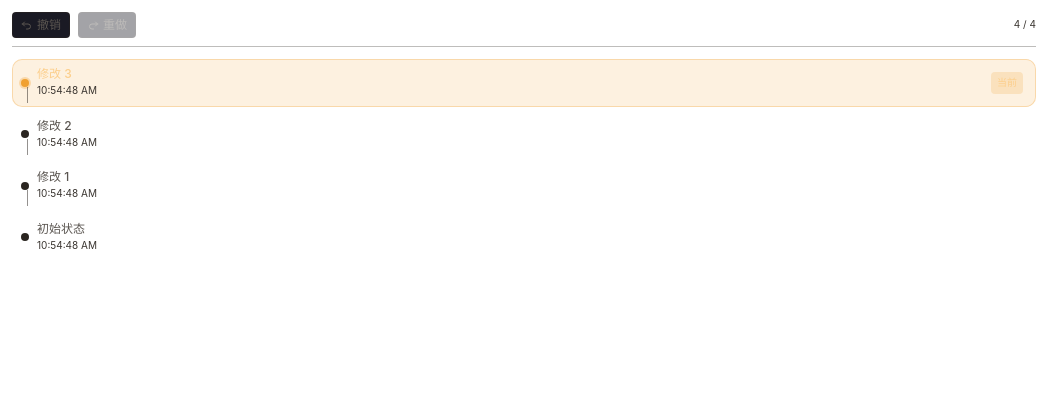
Test: VersionTimeline - 确认恢复 › 恢复后预览关闭
Click the button "修改 3 10:54:48 AM 当前": {"x": 54, "y": 74} [12,59,1036,106]
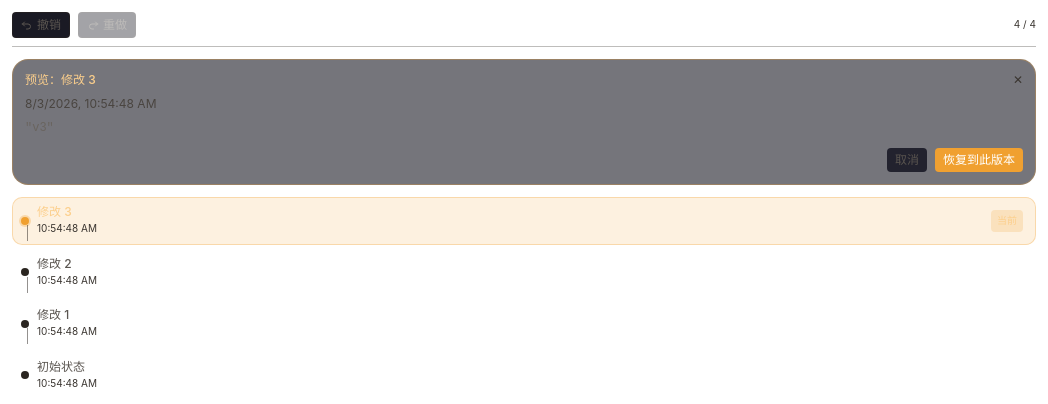
Check: the element with test id "version-preview" is shown, box [12,59,1036,185]
Click the button with test id "confirm-restore": {"x": 979, "y": 160} [935,148,1023,172]
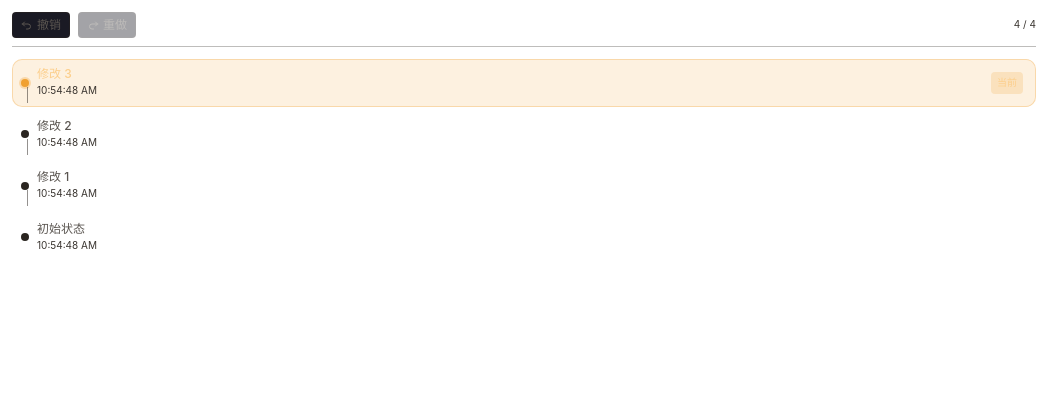
Check: the element with test id "version-preview" is gone
